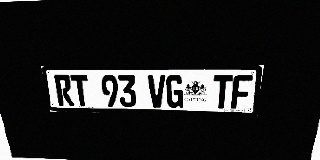3: (118, 75, 137, 107)
9: (100, 75, 120, 107)
F: (230, 75, 252, 109)
G: (166, 75, 184, 108)
R: (53, 75, 74, 106)
T: (212, 75, 233, 108), (70, 75, 91, 106)
V: (148, 75, 165, 107)
